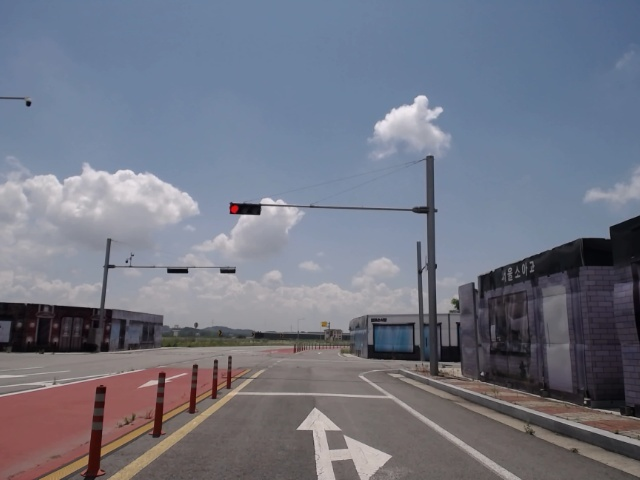red_3: (230, 203, 261, 215)
